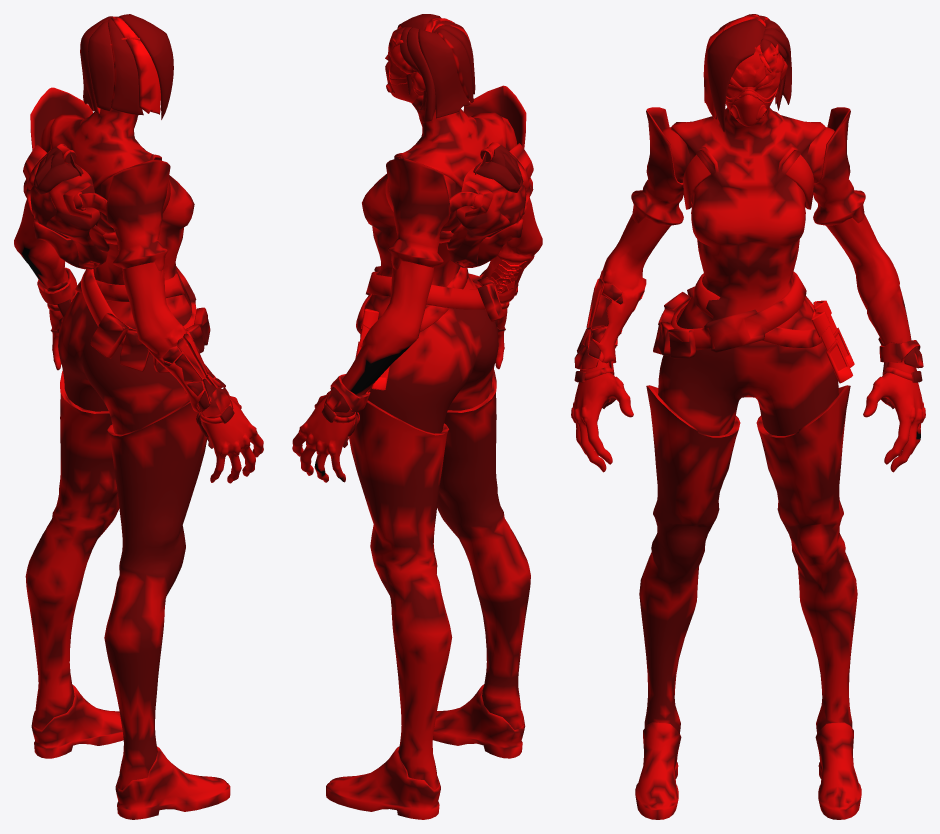
File: viperComplex.glb
3 renders of one model, left to right at view 1: azimuth 30°, elevation 25°; view 2: azimuth 150°, elevation 25°; view 3: azimuth 270°, elevation 25°, orthographic. The views are drawn at different scales.
Visible parts, largest first — view 1: CS_Pandemic_S0_Skelmesh.mo; view 2: CS_Pandemic_S0_Skelmesh.mo; view 3: CS_Pandemic_S0_Skelmesh.mo.
Boxes of the visible parts, box(x1,y1,x2,y2) form: CS_Pandemic_S0_Skelmesh.mo: box(14, 14, 263, 819); CS_Pandemic_S0_Skelmesh.mo: box(292, 14, 542, 819); CS_Pandemic_S0_Skelmesh.mo: box(571, 14, 925, 819).
Bounding box in the file's own units: 0.4504 × 2.09 × 0.87.
